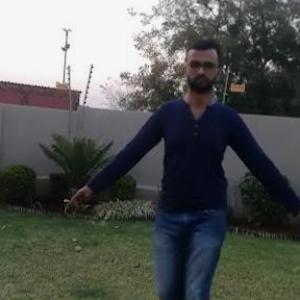land: (85, 65, 299, 299)
